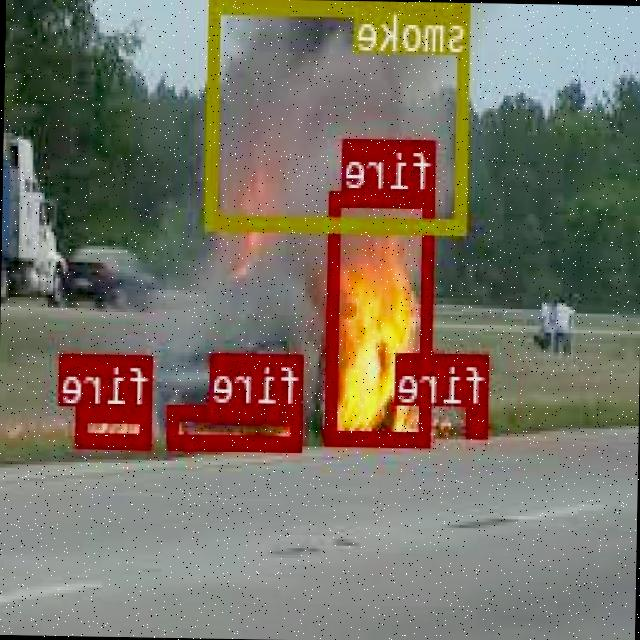fire: (329, 190, 436, 445), (170, 402, 304, 446), (78, 405, 152, 446), (468, 405, 491, 436)
smoke: (208, 0, 471, 228)
